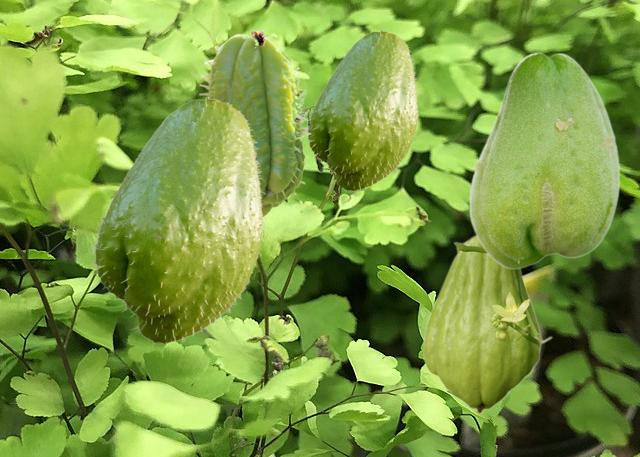sayote: (89, 97, 264, 346), (468, 51, 619, 268), (422, 234, 552, 413), (198, 29, 310, 221), (305, 30, 418, 192)
